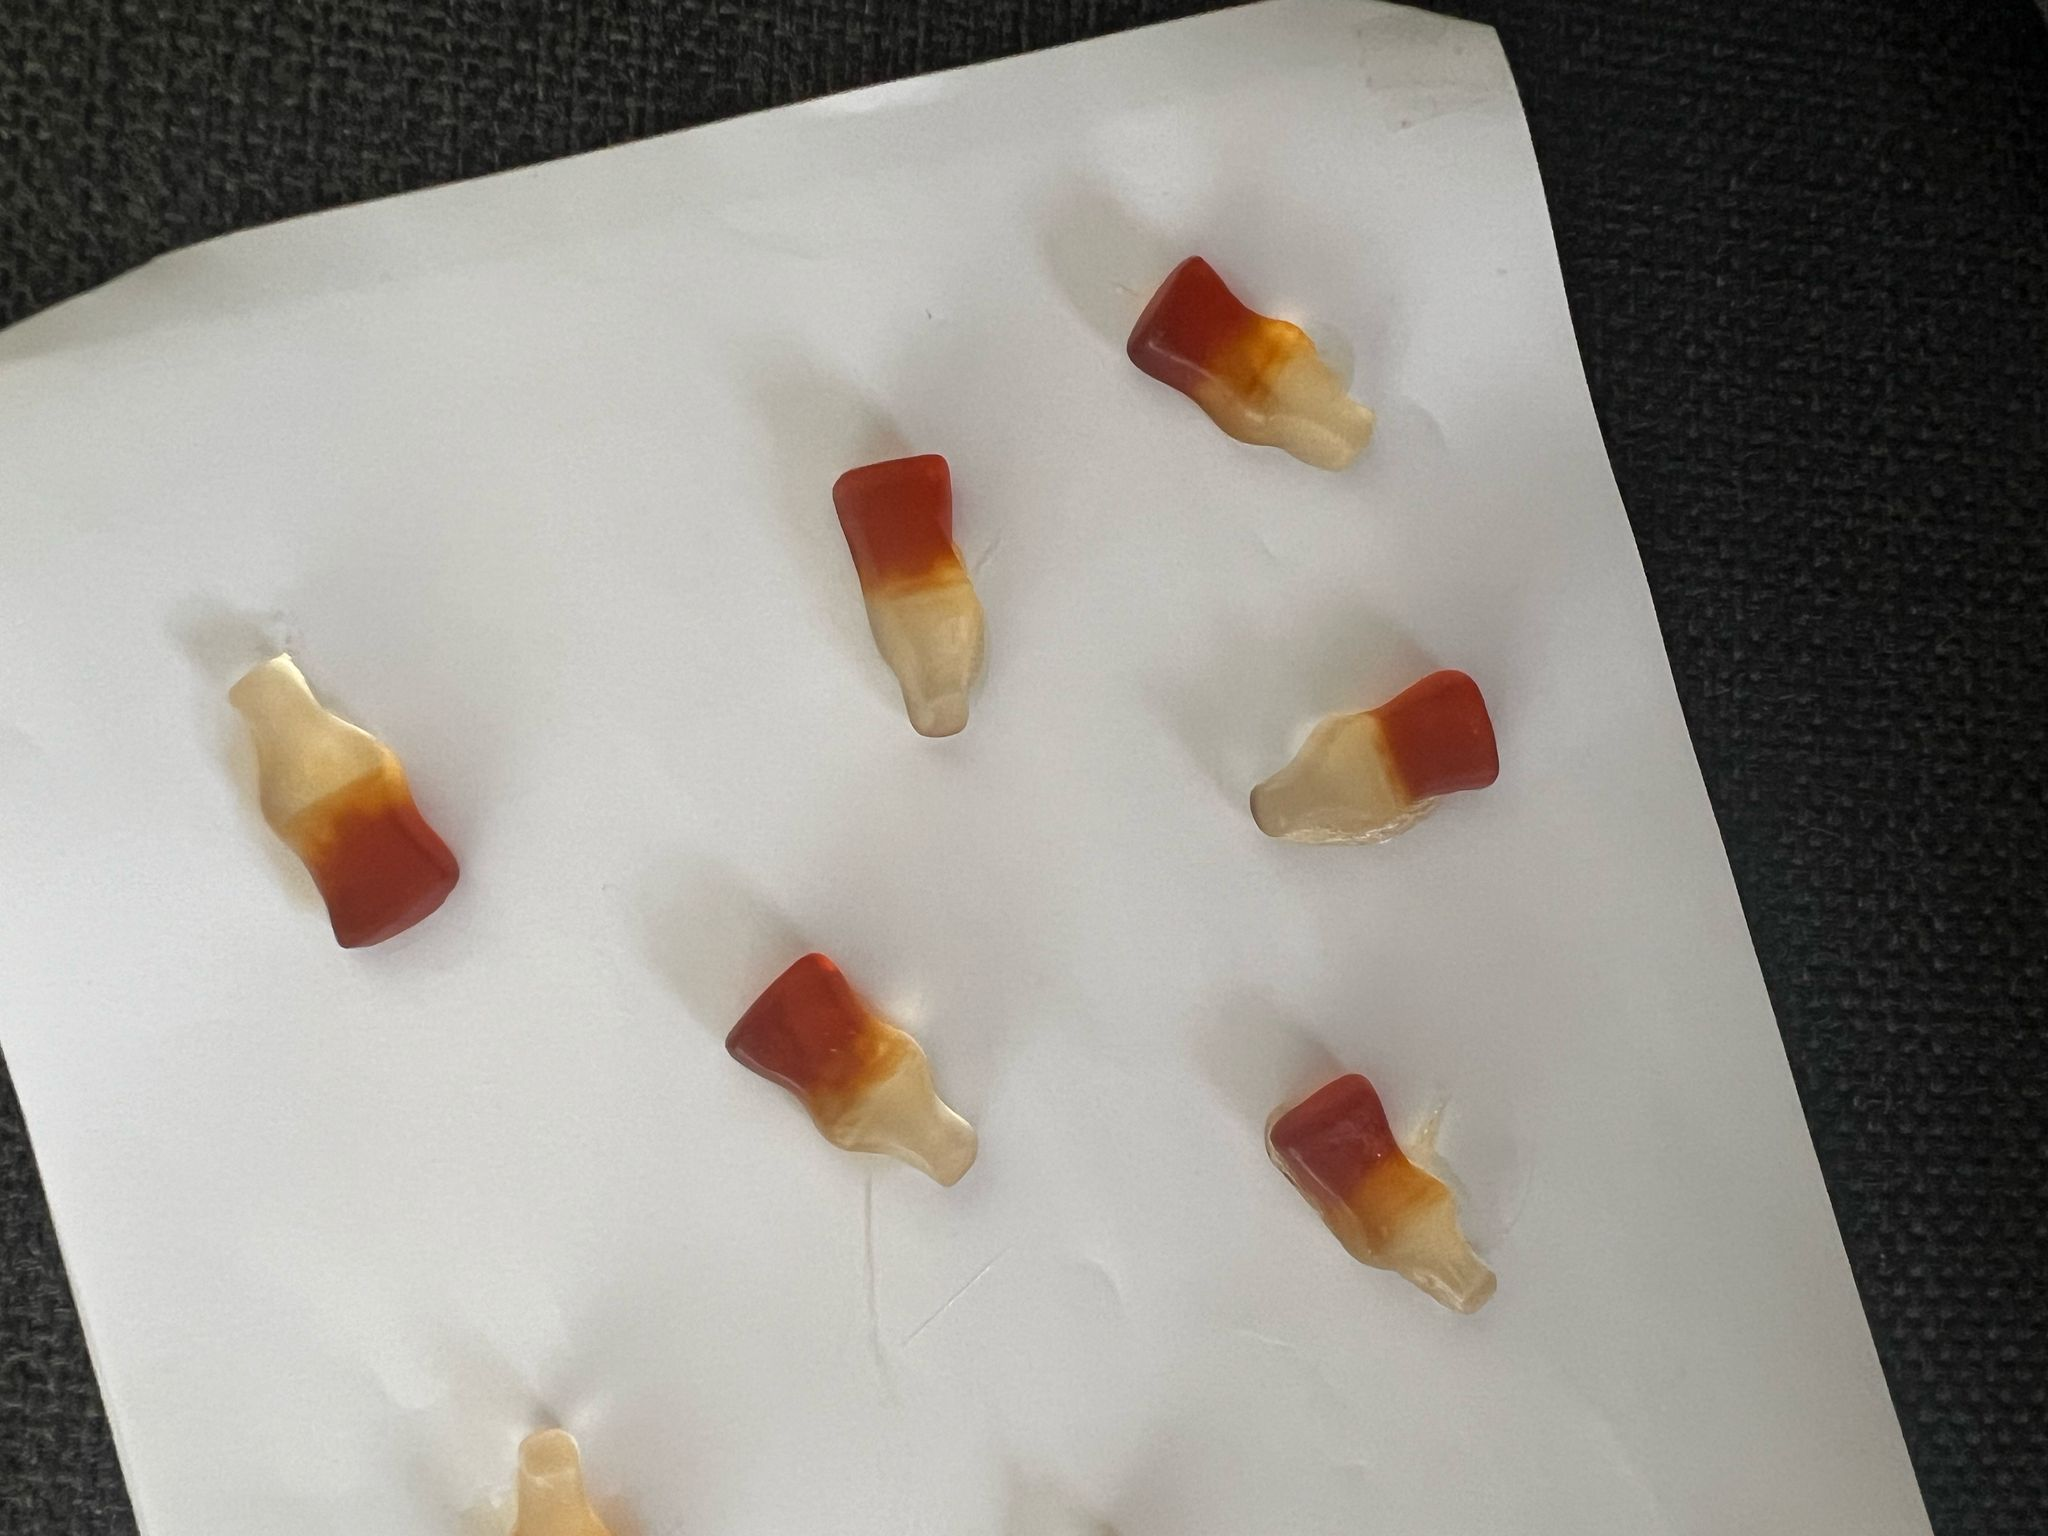cola: (218, 645, 476, 955), (711, 949, 1003, 1196), (1256, 1063, 1511, 1328), (1124, 239, 1385, 492), (1242, 660, 1537, 857), (826, 447, 1021, 744)
